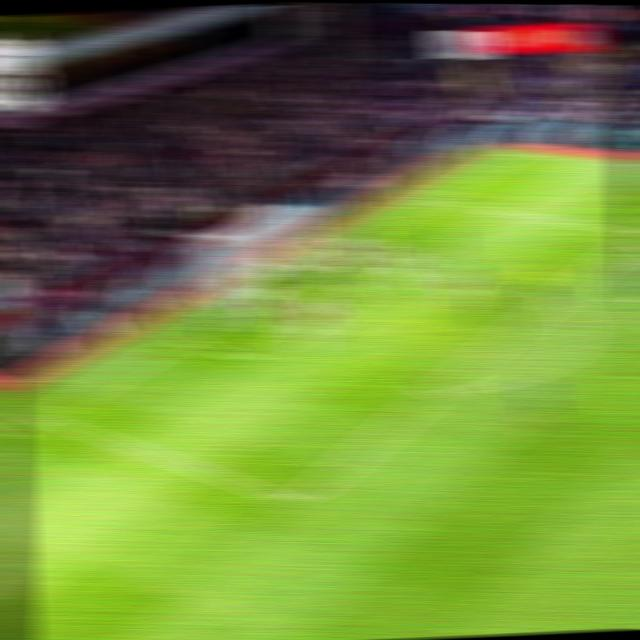bigarea_bottom_inner: (274, 485, 318, 526)
bigarea_bottom_outter: (21, 400, 62, 435)
bigarea_top_outter: (412, 189, 446, 216)
bottom_arc_area_intersection: (416, 375, 460, 410)
corner: (498, 145, 535, 165)
smallarea_bottom_inner: (236, 346, 272, 375)
smallarea_bottom_outter: (168, 328, 205, 351)
smallarea_top_inner: (398, 248, 434, 271)
top_arc_area_intersection: (540, 281, 578, 312)
